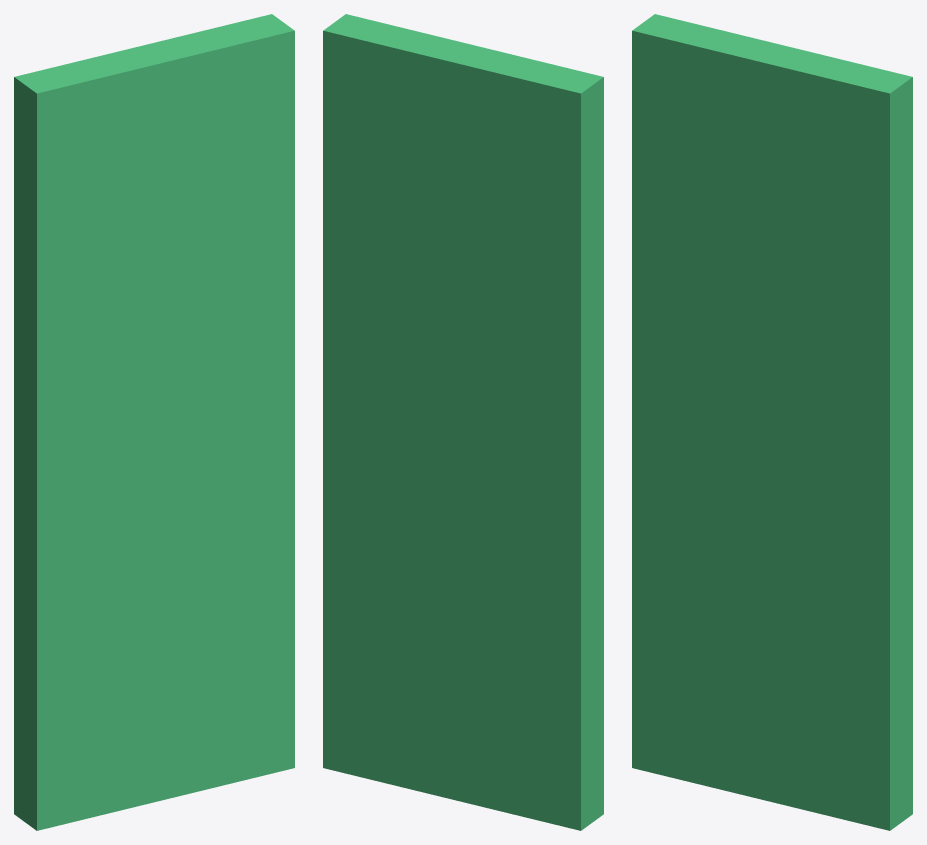
File: DNE.dae
The picture shows the model from 3 angles, left to right: view 1: azimuth 30°, elevation 25°; view 2: azimuth 150°, elevation 25°; view 3: azimuth 330°, elevation 25°; orthographic projection.
Parts seen in each view (by area): view 1: Colmesh-1; view 2: Colmesh-1; view 3: Colmesh-1.
Part boxes in pixels (x1,y1,x2,y2): Colmesh-1: [14, 14, 294, 830]; Colmesh-1: [323, 14, 603, 830]; Colmesh-1: [632, 14, 912, 830].
Size of the model in its own units: 39.23 by 6 by 107.
